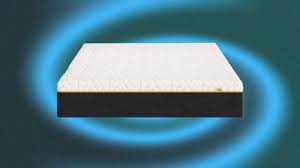bed-matress: (53, 40, 247, 119)
